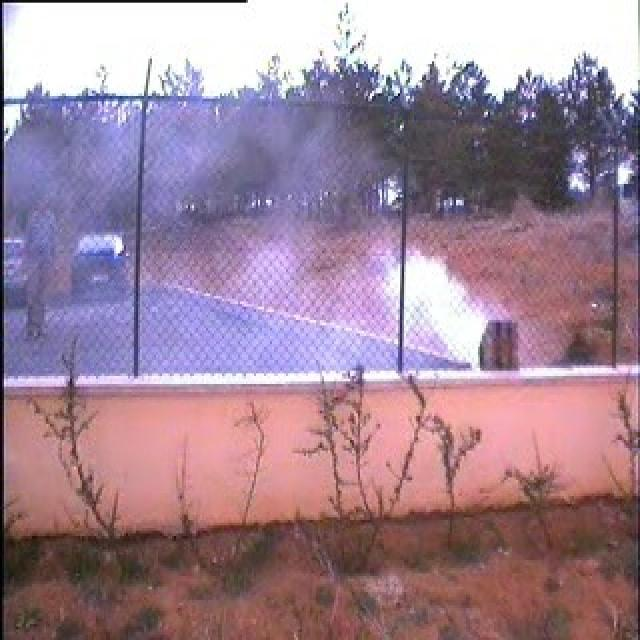Smoke: (381, 250, 487, 369)
